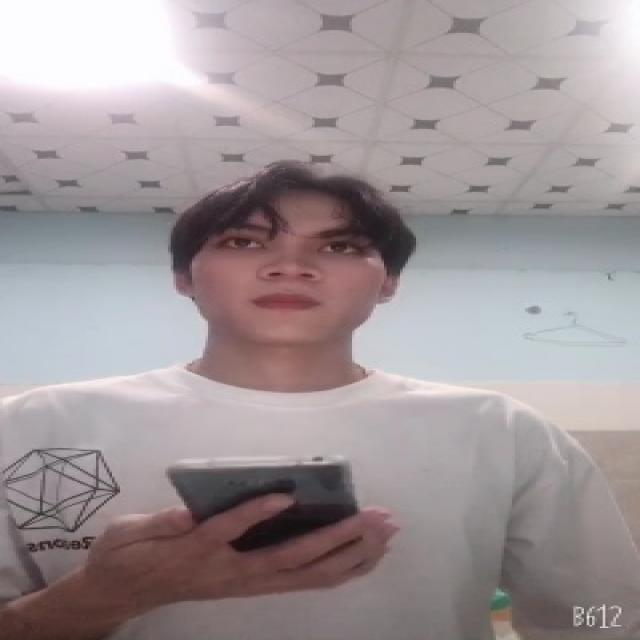Phone: (165, 452, 361, 556)
